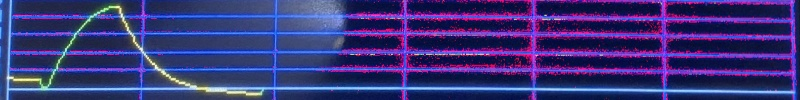normal_volume: (12, 1, 273, 99)
